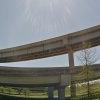Bridge: (2, 24, 96, 89)
